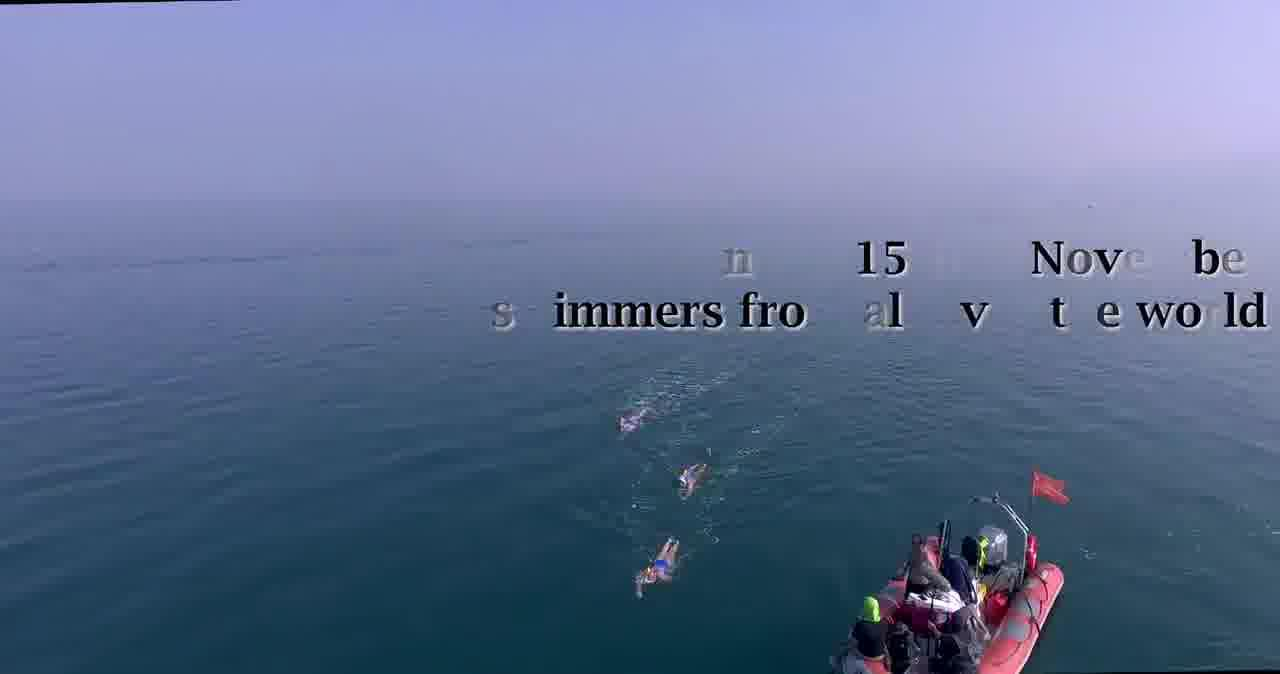human: (626, 537, 680, 602), (675, 458, 710, 502)
